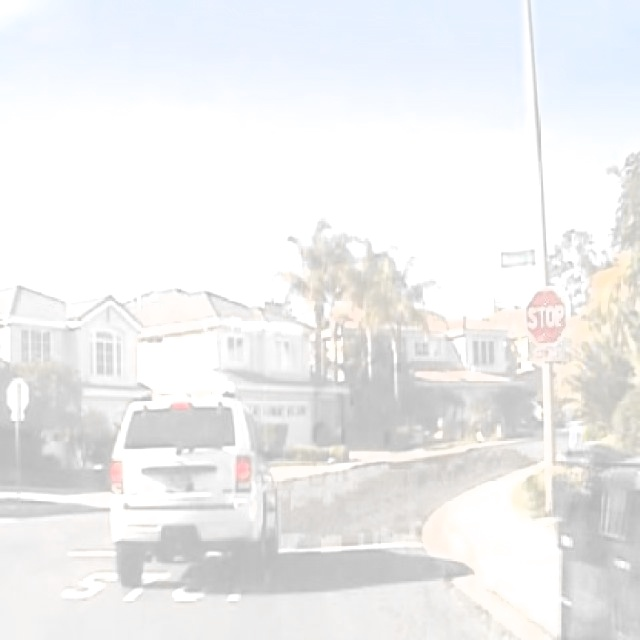stop: (525, 288, 566, 346)
